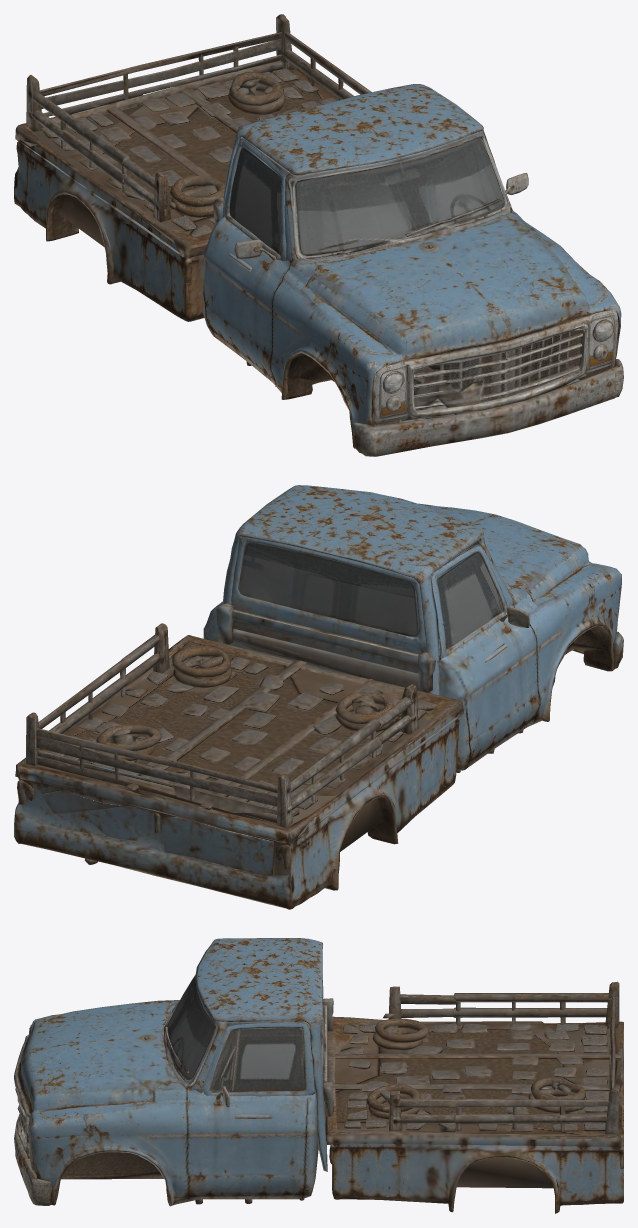
Rendered from truck_body.glb.
The picture shows the model from 3 angles, top to bottom: view 1: azimuth 30°, elevation 25°; view 2: azimuth 150°, elevation 25°; view 3: azimuth 270°, elevation 25°; orthographic projection. The views are drawn at different scales.
Parts seen in each view (by area): view 1: Mesh_0; view 2: Mesh_0; view 3: Mesh_0.
Boxes of the visible parts, <box> form: Mesh_0: <box>14,14,623,456</box>; Mesh_0: <box>14,485,623,909</box>; Mesh_0: <box>14,938,623,1213</box>.
Size of the model in its own units: 2.64 by 1.82 by 5.5.
1 material, 1 textured.
